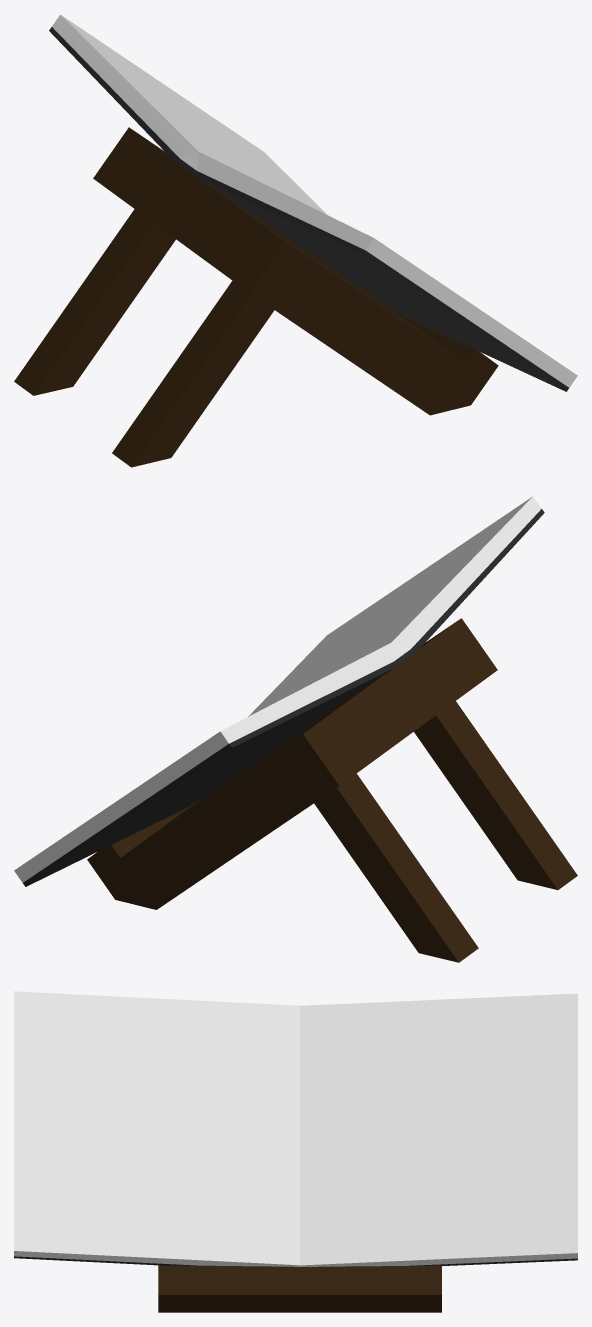
The model's file is StandingBook.fbx.
The picture shows the model from 3 angles, top to bottom: view 1: azimuth 30°, elevation 25°; view 2: azimuth 150°, elevation 25°; view 3: azimuth 270°, elevation 25°; orthographic projection. The views are drawn at different scales.
Visible parts, largest first — view 1: Cube; view 2: Cube; view 3: Cube.
Boxes of the visible parts, <box> form: Cube: <box>14,14,577,467</box>; Cube: <box>14,496,577,962</box>; Cube: <box>14,991,577,1312</box>.
Size of the model in its own units: 257 by 189 by 398.
